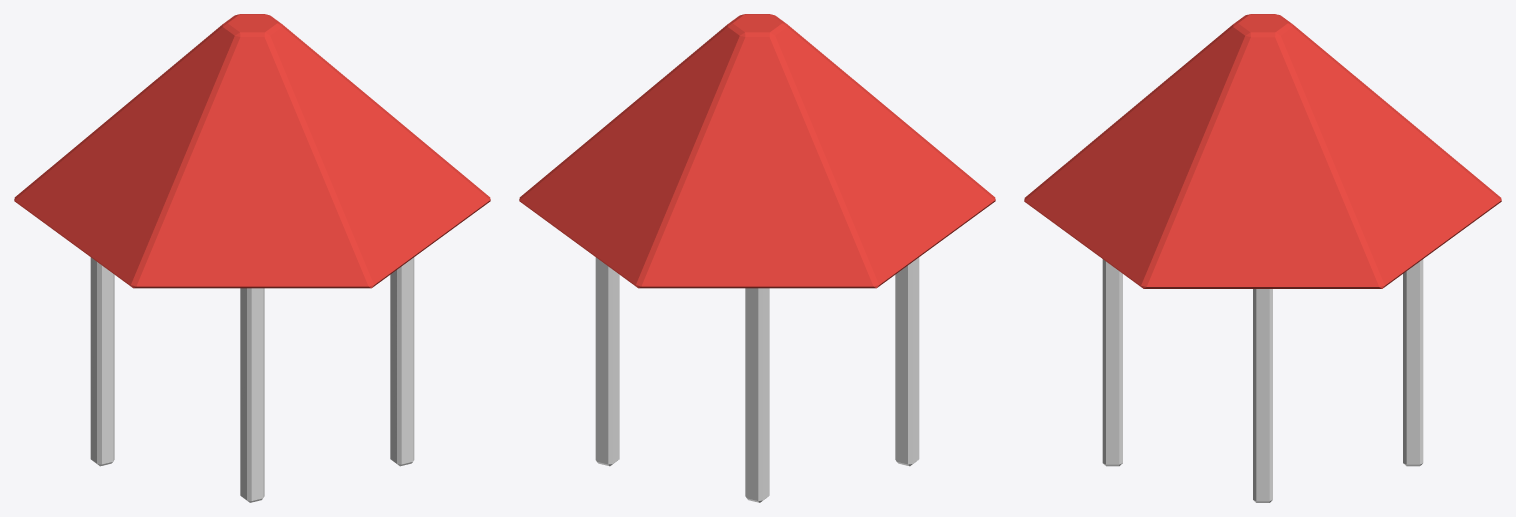
The model's file is carnival_tent.glb.
The picture shows the model from 3 angles, left to right: view 1: azimuth 30°, elevation 25°; view 2: azimuth 150°, elevation 25°; view 3: azimuth 270°, elevation 25°; orthographic projection.
Parts seen in each view (by area): view 1: carnival_tent; view 2: carnival_tent; view 3: carnival_tent.
Part boxes in pixels (x1,y1,x2,y2): carnival_tent: (14, 14, 490, 502); carnival_tent: (519, 14, 995, 502); carnival_tent: (1024, 14, 1501, 502).
Bounding box in the file's own units: 0.7192 × 0.77 × 0.8261.
